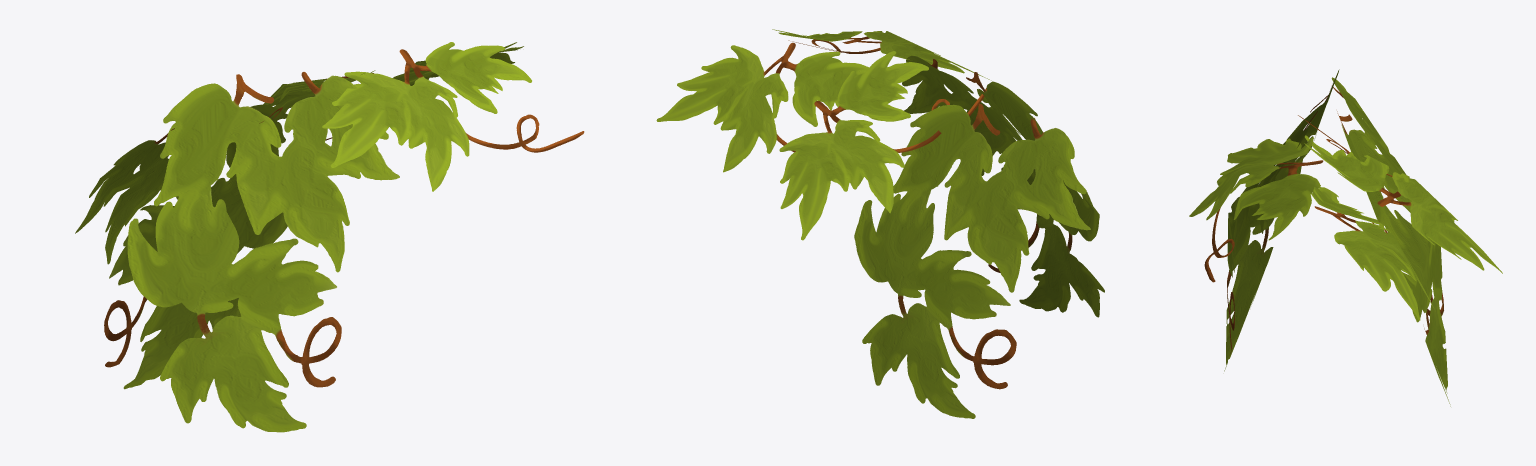
The model's file is sm_fleurs_07.fbx.
The picture shows the model from 3 angles, left to right: view 1: azimuth 30°, elevation 25°; view 2: azimuth 150°, elevation 25°; view 3: azimuth 270°, elevation 25°; orthographic projection. The views are drawn at different scales.
Visible parts, largest first — view 1: sm_fleurs_07; view 2: sm_fleurs_07; view 3: sm_fleurs_07.
Part boxes in pixels (bbox=[...]): sm_fleurs_07: bbox=[75, 42, 584, 432]; sm_fleurs_07: bbox=[656, 29, 1104, 418]; sm_fleurs_07: bbox=[1189, 69, 1502, 406].
Bounding box in the file's own units: 127 × 87.92 × 78.92.
